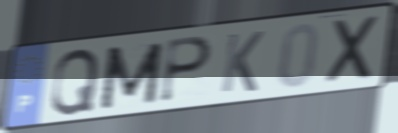0: (275, 21, 324, 92)
K: (218, 29, 266, 96)
M: (96, 40, 166, 113)
P: (157, 34, 215, 105)
Q: (48, 46, 102, 118)
X: (324, 12, 384, 88)
